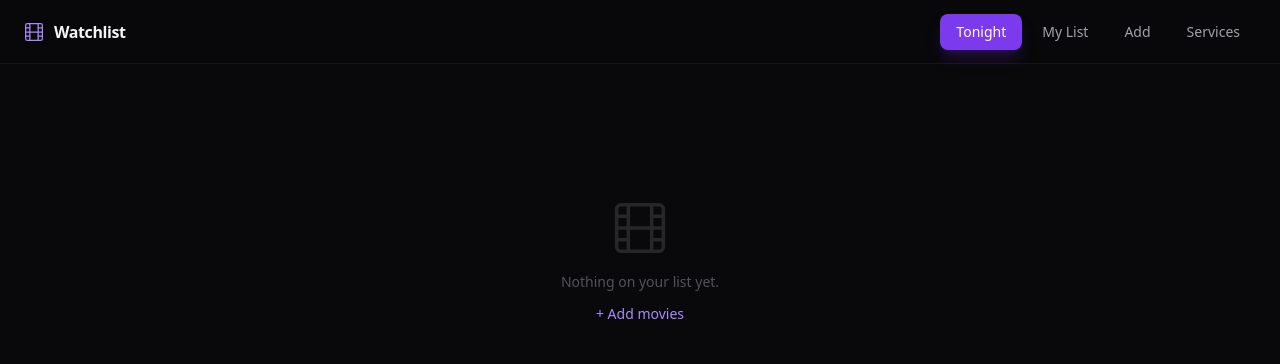
it: search state reset on searchMode change › resets query, searchResults, and searchEntity when searchMode changes
The width and height of the screenshot is (1280, 364).
# Navigate to search view.
Click the button "Add". click: (1138, 32)
box: [1108, 14, 1167, 50]
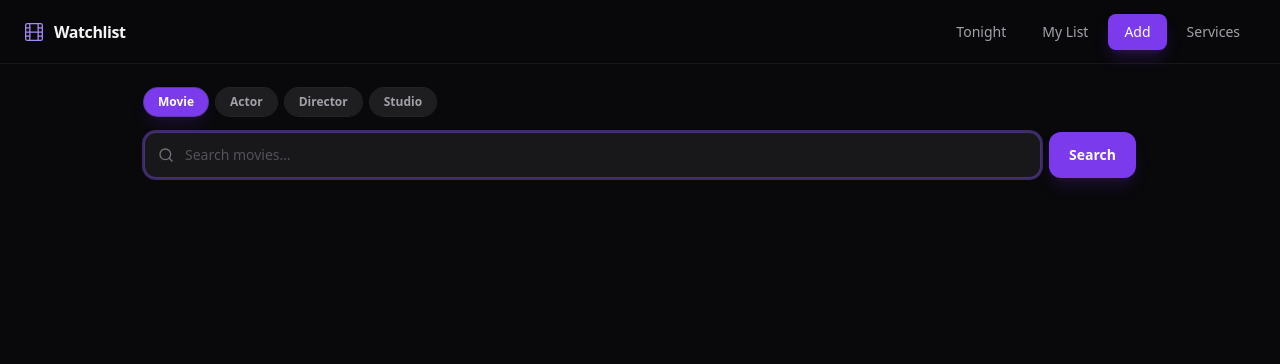
# Type a query so query state is non-empty.
Type "Inception" into the field with placeholder "Search movies…". click: (593, 155)
box: [144, 132, 1041, 178]
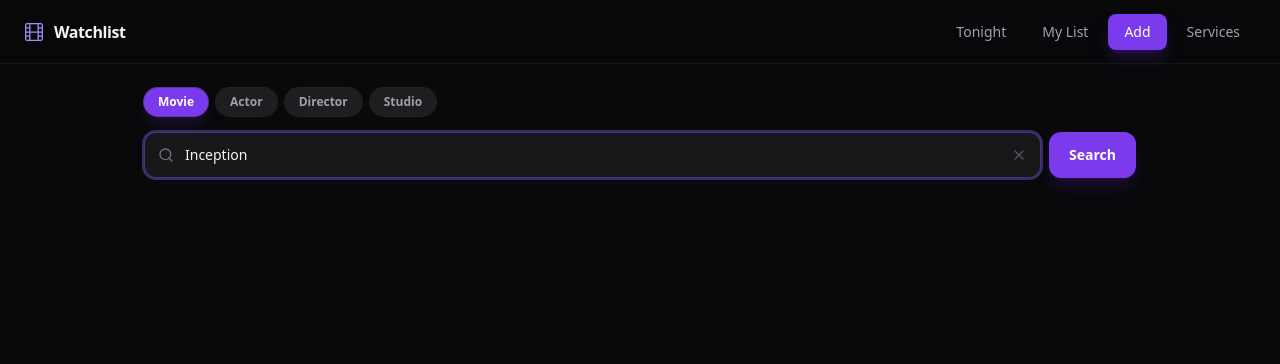
Click the button "Search". click: (1093, 155)
box: [1049, 132, 1136, 178]
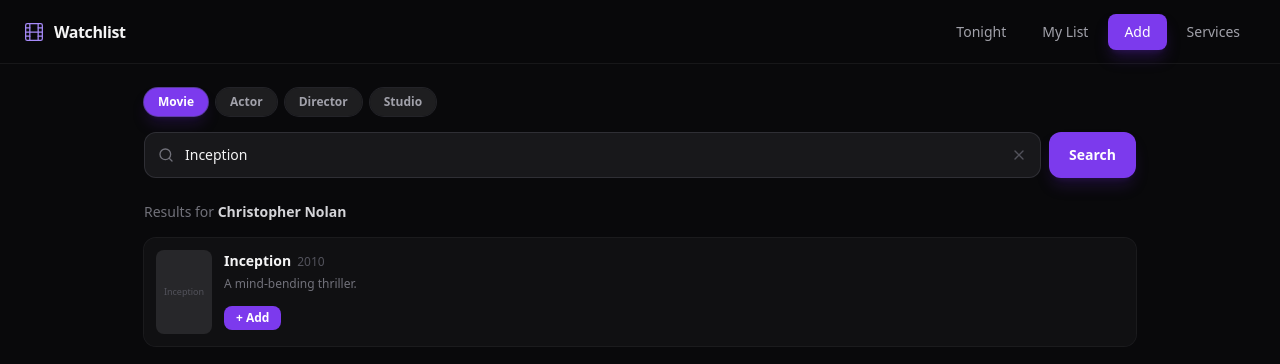
Result: the text "Christopher Nolan" is shown at [218, 202, 346, 221]
Result: the 1st text "Inception" is shown at [156, 250, 212, 334]
# Switch searchMode from "movie" to "actor".
Click the button "Actor". click: (246, 102)
box: [216, 88, 277, 116]
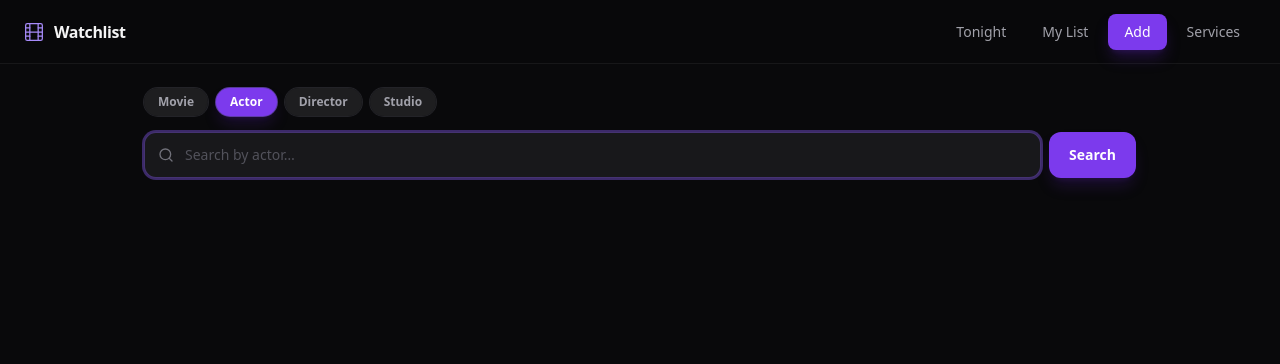
Result: the field with placeholder "Search by actor…" is empty at [144, 132, 1041, 178]
Result: the text "Christopher Nolan" is gone
